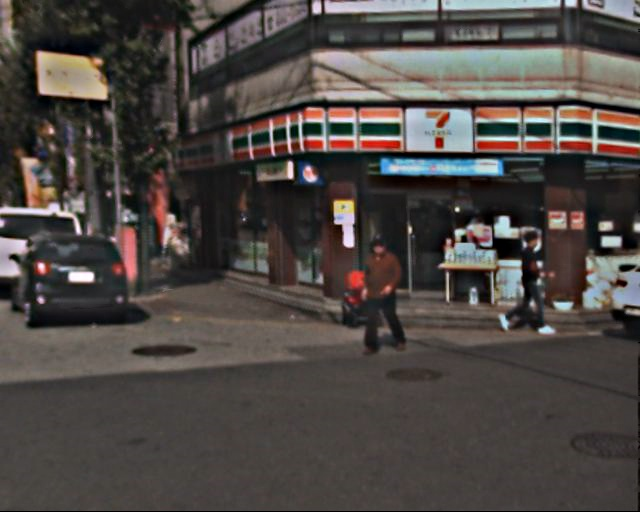person: (359, 236, 417, 354), (508, 230, 561, 338)
